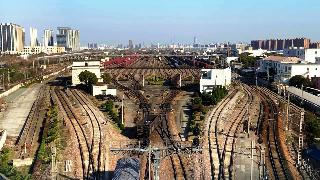train: (136, 114, 158, 137)
